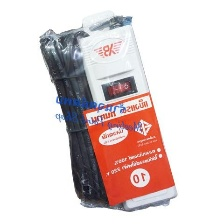three_eye_plug: (71, 18, 181, 219)
